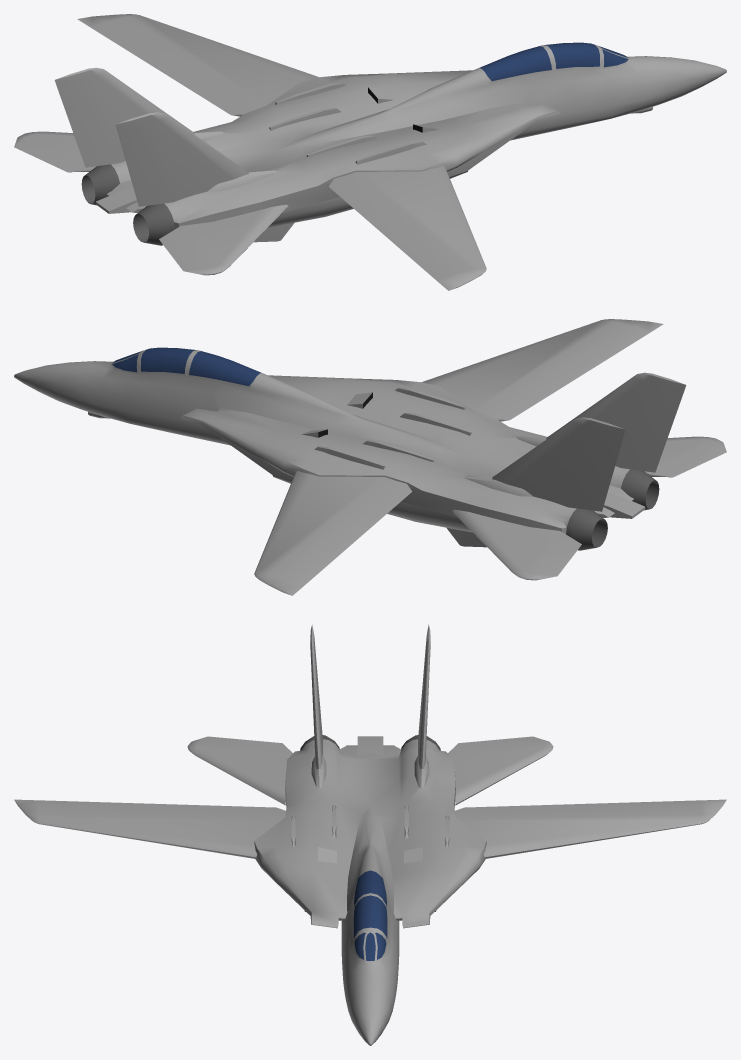
The model's file is F14_TOMCAT.glb.
3 views of the same model, one above another, from view 1: azimuth 30°, elevation 25°; view 2: azimuth 150°, elevation 25°; view 3: azimuth 270°, elevation 25° (orthographic). The views are drawn at different scales.
Parts seen in each view (by area): view 1: f14_tomcat; view 2: f14_tomcat; view 3: f14_tomcat.
Boxes of the visible parts, <box> form: f14_tomcat: <box>14,14,726,290</box>; f14_tomcat: <box>14,319,726,595</box>; f14_tomcat: <box>14,624,726,1045</box>.
Size of the model in its own units: 19.06 by 4.64 by 19.1.
